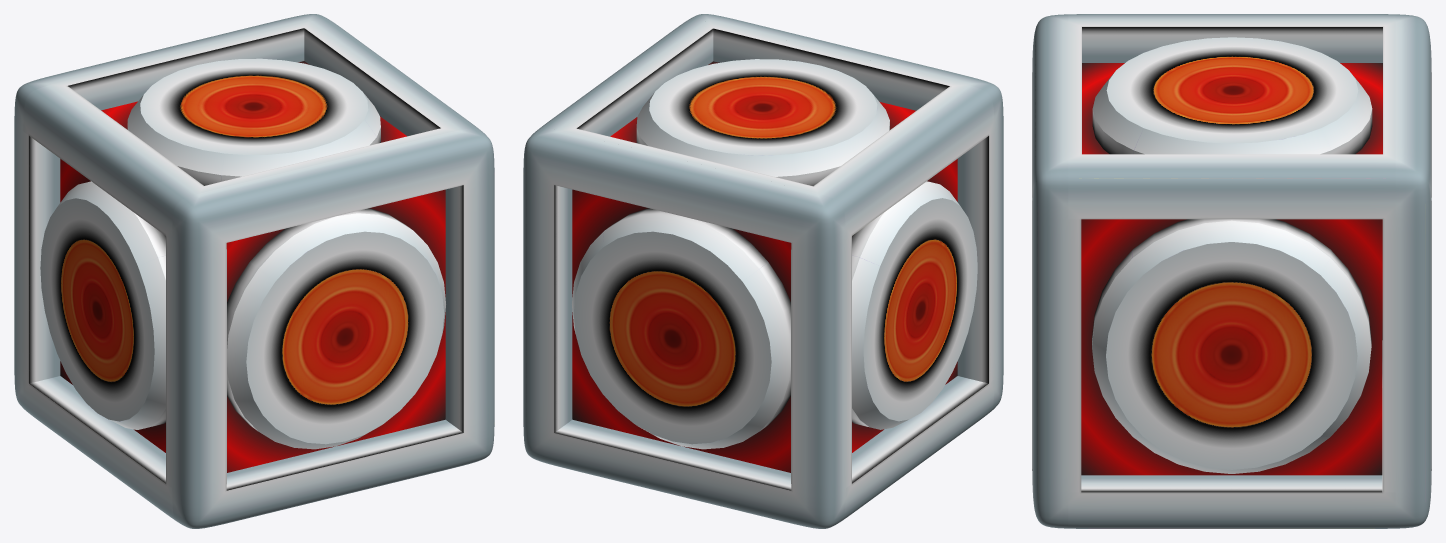
File: creative_generator.obj
3 renders of one model, left to right at view 1: azimuth 30°, elevation 25°; view 2: azimuth 150°, elevation 25°; view 3: azimuth 270°, elevation 25°, orthographic. The views are drawn at different scales.
Visible parts, largest first — view 1: Cube.002; view 2: Cube.002; view 3: Cube.002.
Boxes of the visible parts, box(x1,y1,x2,y2) form: Cube.002: box(14, 14, 494, 528); Cube.002: box(523, 14, 1003, 528); Cube.002: box(1032, 14, 1431, 528).
Bounding box in the file's own units: 1 × 1 × 1.
